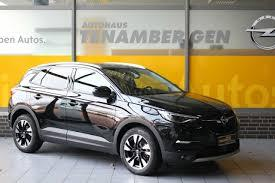opel: (220, 114, 231, 127)
